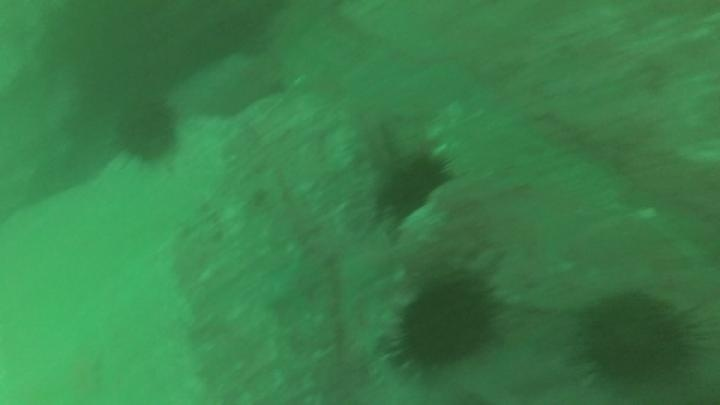echinus: (576, 289, 701, 387), (392, 275, 499, 373), (377, 147, 455, 221), (112, 94, 182, 166)
